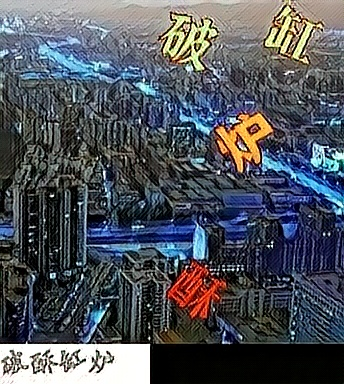B8D7: (262, 4, 326, 70)
C2AF: (211, 107, 275, 173)
C6C6: (155, 6, 219, 72)
CBD6: (166, 255, 230, 321)
